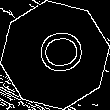O_W: (26, 30, 84, 80)
